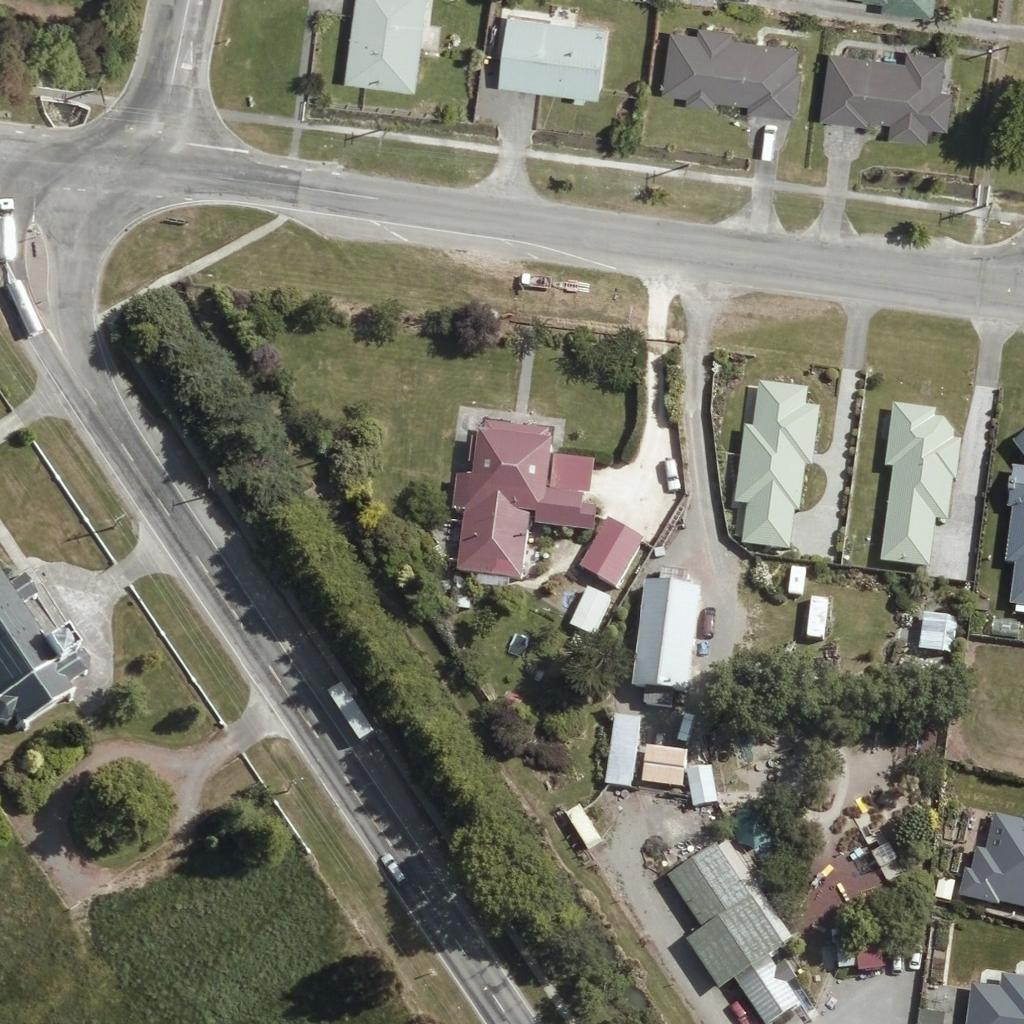car: (750, 121, 784, 155), (652, 456, 686, 490), (653, 456, 687, 490), (691, 601, 725, 635), (375, 850, 409, 884), (898, 936, 932, 970), (878, 940, 912, 974), (722, 992, 756, 1024)
